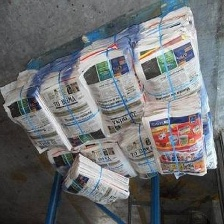news_paper: (74, 29, 152, 133), (129, 4, 209, 105), (34, 50, 114, 149), (0, 65, 71, 159), (143, 91, 208, 179), (37, 140, 138, 184), (53, 154, 131, 210), (117, 127, 169, 183)
